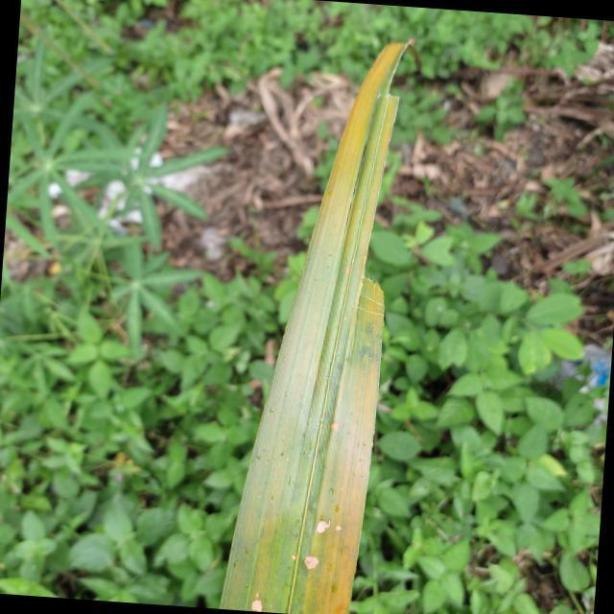Megnesium: (216, 31, 413, 614)
